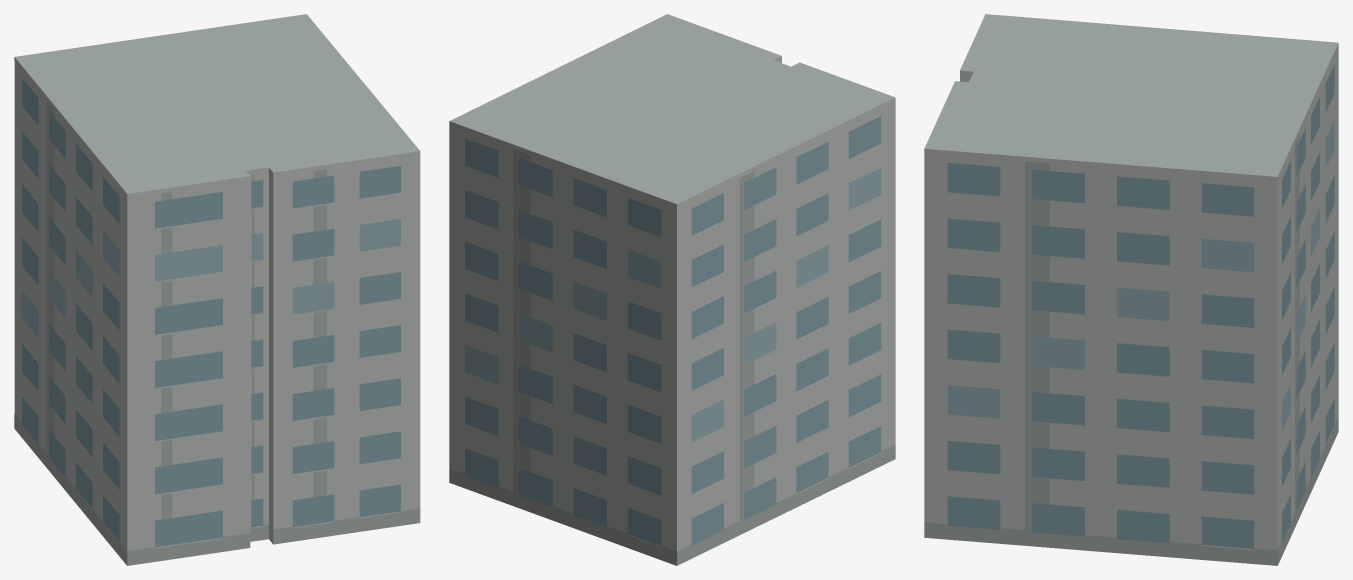
Rendered from survey-upis-32869220.glb.
The picture shows the model from 3 angles, left to right: view 1: azimuth 30°, elevation 25°; view 2: azimuth 150°, elevation 25°; view 3: azimuth 270°, elevation 25°; orthographic projection. The views are drawn at different scales.
Parts seen in each view (by area): view 1: survey-upis-32869220.tmp; view 2: survey-upis-32869220.tmp; view 3: survey-upis-32869220.tmp.
Boxes of the visible parts, x1,y1,x2,y2 form: survey-upis-32869220.tmp: (14,14,420,565); survey-upis-32869220.tmp: (449,14,895,565); survey-upis-32869220.tmp: (924,14,1338,565).
Size of the model in its own units: 18.15 by 20.2 by 19.51.
